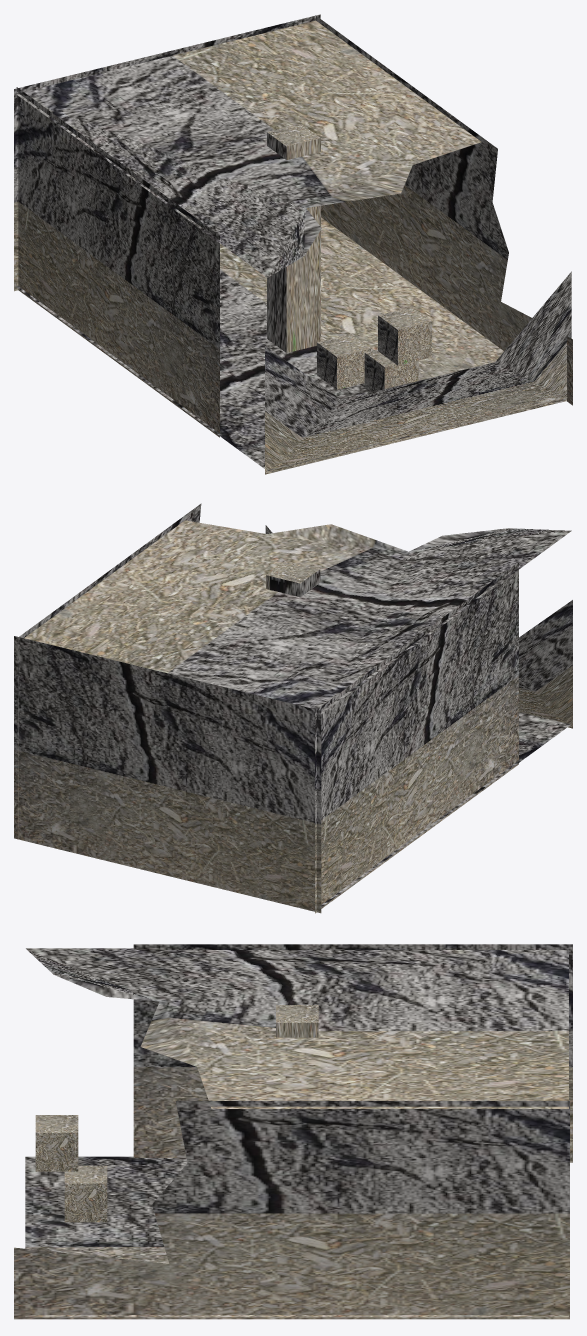
File: cell1.1.obj
3 renders of one model, top to bottom at view 1: azimuth 30°, elevation 25°; view 2: azimuth 150°, elevation 25°; view 3: azimuth 270°, elevation 25°, orthographic. The views are drawn at different scales.
Parts seen in each view (by area): view 1: Plane.005, Plane.004, Plane, Plane.001, Plane.002, Cube.004_Cube.005, Plane.003, Cube.003_Cube.004, Cube_Cube.002, Cube.002_Cube.003; view 2: Plane.003, Plane.005, Plane.004, Plane, Plane.001, Cube.004_Cube.005, Plane.002; view 3: Plane.002, Plane.005, Plane.001, Plane.004, Cube.003_Cube.004, Cube.002_Cube.003, Cube.004_Cube.005.
Part boxes in pixels (box(x1,y1,x2,y2)): Plane.005: box(16, 20, 481, 277); Plane.004: box(16, 87, 219, 437); Plane: box(265, 271, 571, 474); Plane.001: box(16, 217, 567, 470); Plane.002: box(315, 15, 572, 405); Cube.004_Cube.005: box(267, 124, 320, 352); Plane.003: box(14, 14, 320, 291); Cube.003_Cube.004: box(378, 307, 431, 365); Cube_Cube.002: box(317, 334, 370, 389); Cube.002_Cube.003: box(364, 349, 418, 392); Plane.003: box(14, 636, 321, 913); Plane.005: box(24, 520, 571, 713); Plane.004: box(315, 562, 518, 913); Plane: box(265, 525, 572, 728); Plane.001: box(321, 712, 570, 907); Cube.004_Cube.005: box(266, 561, 320, 597); Plane.002: box(18, 503, 201, 839); Plane.002: box(14, 1101, 569, 1319); Plane.005: box(26, 948, 568, 1108); Plane.001: box(25, 1156, 568, 1317); Plane.004: box(133, 944, 572, 1162); Cube.003_Cube.004: box(35, 1115, 78, 1171); Cube.002_Cube.003: box(64, 1165, 107, 1222); Cube.004_Cube.005: box(276, 1005, 318, 1037).
Bounding box in the file's own units: 17.92 × 11.84 × 26.2.
